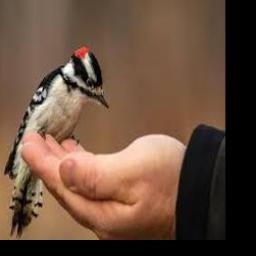Woodpecker: (4, 45, 109, 239)
